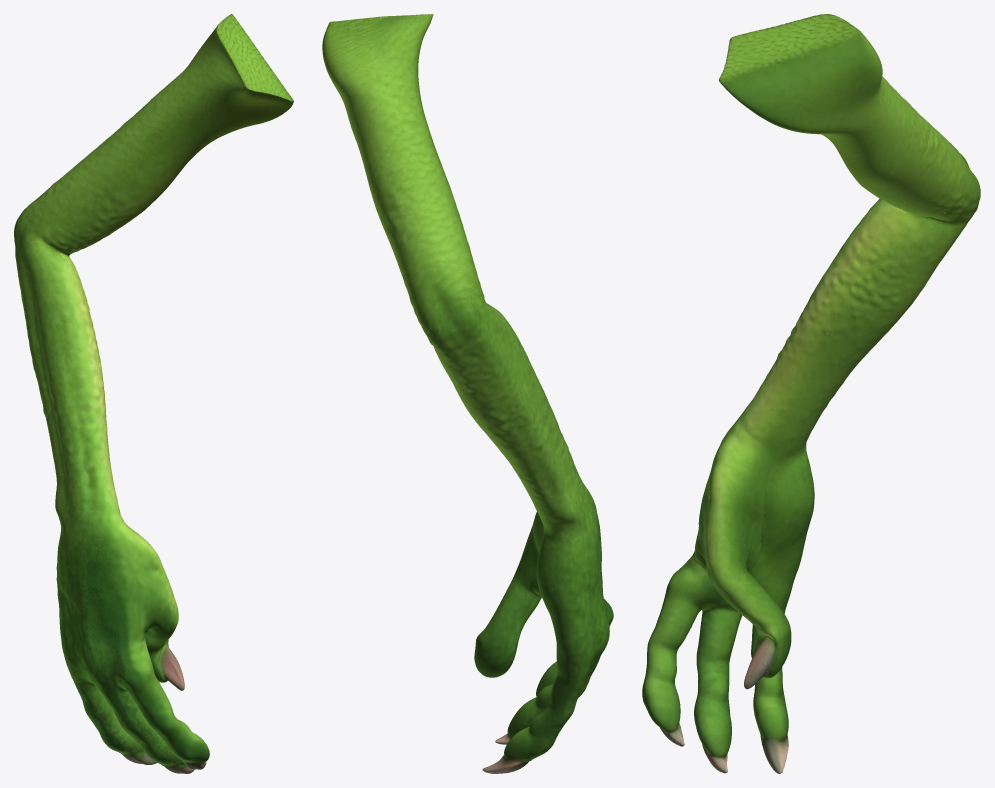
The model's file is limb_02.glb.
3 views of the same model, side by side, from view 1: azimuth 30°, elevation 25°; view 2: azimuth 150°, elevation 25°; view 3: azimuth 270°, elevation 25° (orthographic). The views are drawn at different scales.
Bounding box in the file's own units: 0.6093 × 1.9 × 0.7234.
1 material, 1 textured.
